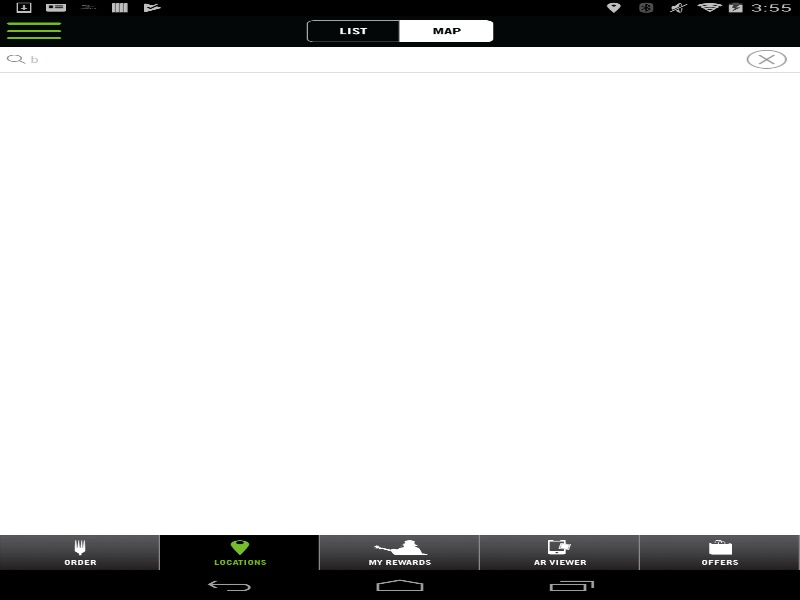Button: (13, 470, 98, 510), (306, 20, 400, 42), (400, 20, 493, 42), (746, 50, 786, 68)
Input: (0, 46, 800, 71)
